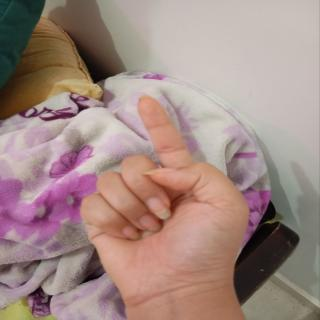BAA: (77, 91, 264, 308)
